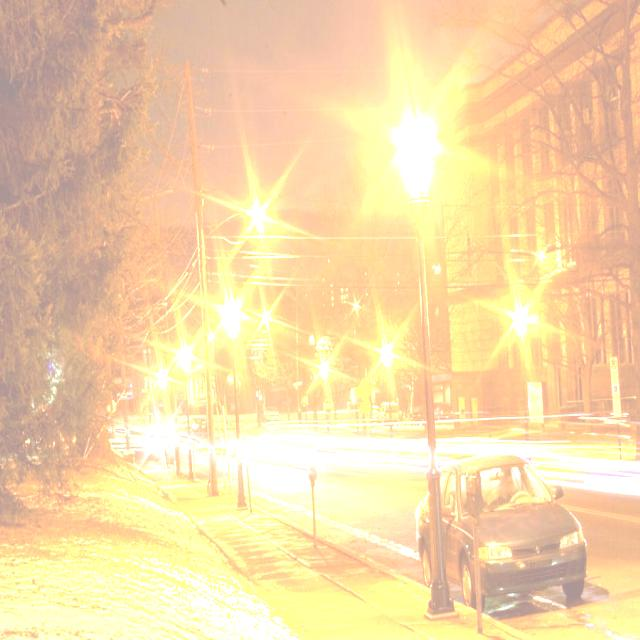Car: (415, 448, 590, 616)
